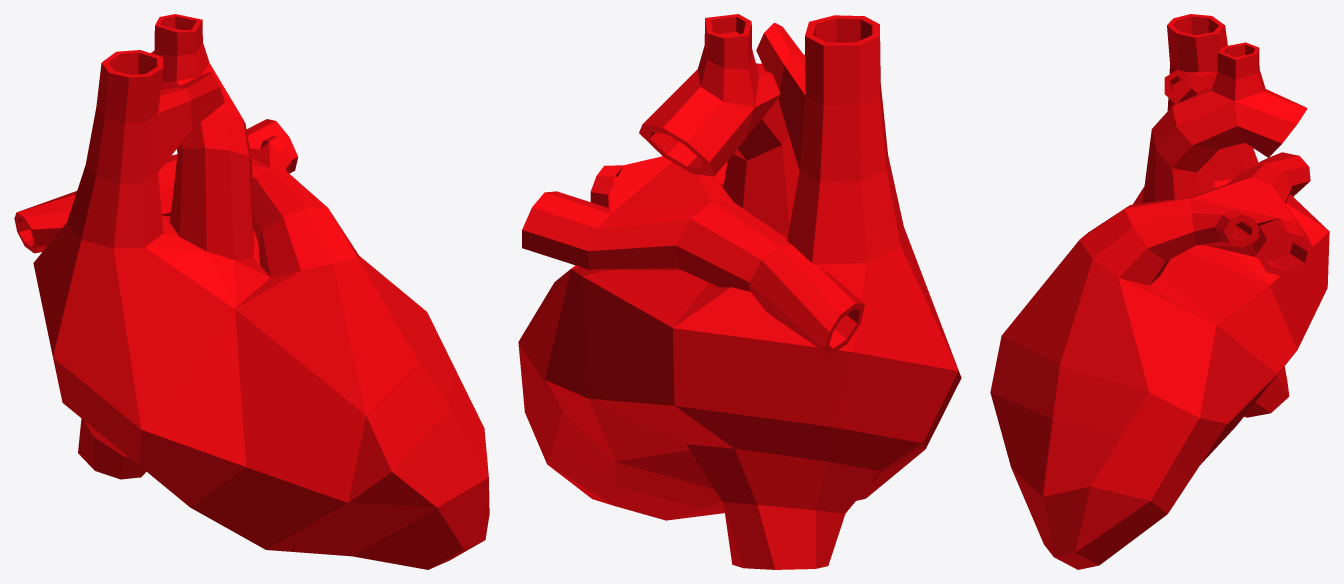
3 renders of one model, left to right at view 1: azimuth 30°, elevation 25°; view 2: azimuth 150°, elevation 25°; view 3: azimuth 270°, elevation 25°, orthographic. The views are drawn at different scales.
Parts seen in each view (by area): view 1: 1410 Heart; view 2: 1410 Heart; view 3: 1410 Heart.
Boxes of the visible parts, x1=… form: 1410 Heart: x1=14, y1=14, x2=489, y2=569; 1410 Heart: x1=518, y1=14, x2=961, y2=569; 1410 Heart: x1=990, y1=14, x2=1329, y2=569.
Bounding box in the file's own units: 45.46 × 58.75 × 40.7.
1 material, 1 textured.
